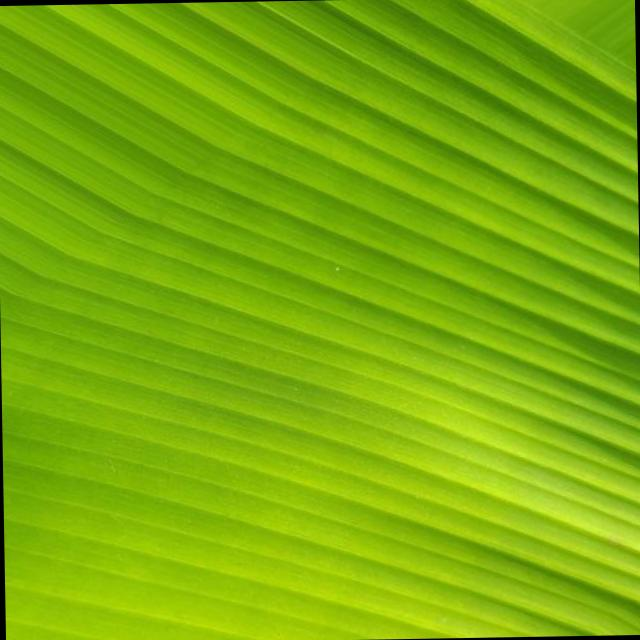Banana_Healthy: (97, 100, 536, 513)
